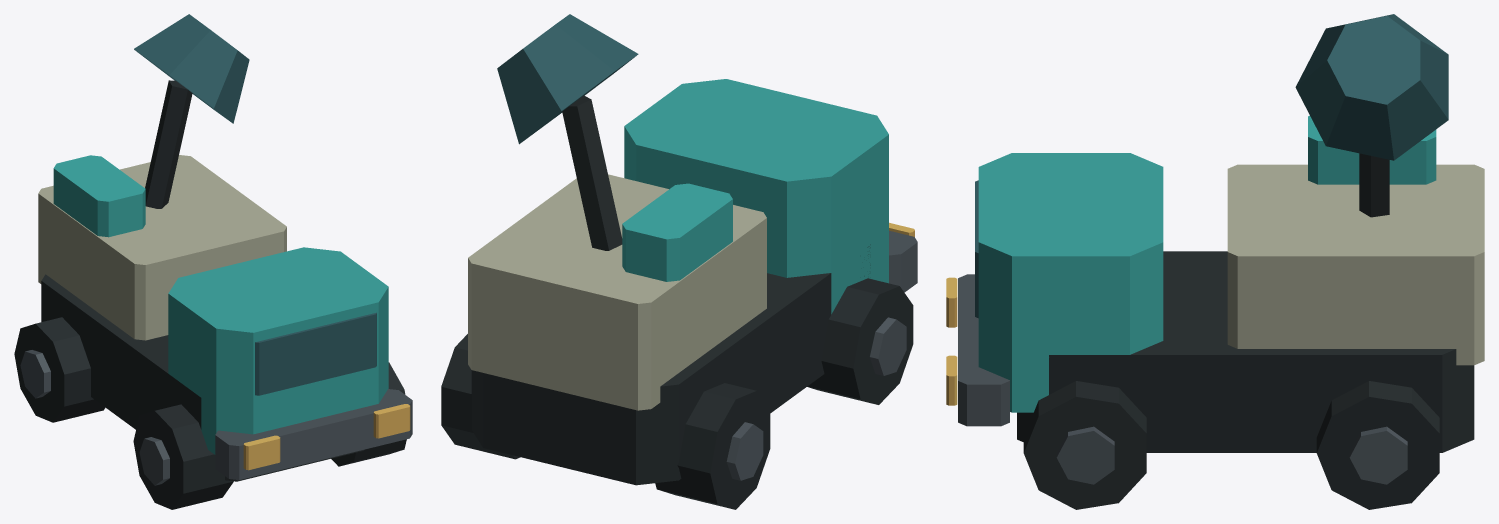
Rendered from survey_vehicle.glb.
3 renders of one model, left to right at view 1: azimuth 30°, elevation 25°; view 2: azimuth 150°, elevation 25°; view 3: azimuth 270°, elevation 25°, orthographic. The views are drawn at different scales.
Visible parts, largest first — view 1: survey_vehicle; view 2: survey_vehicle; view 3: survey_vehicle.
Boxes of the visible parts, <box> form: survey_vehicle: <box>14,14,412,509</box>; survey_vehicle: <box>441,14,917,509</box>; survey_vehicle: <box>946,14,1484,509</box>.
Bounding box in the file's own units: 0.85 × 1.24 × 1.34.
